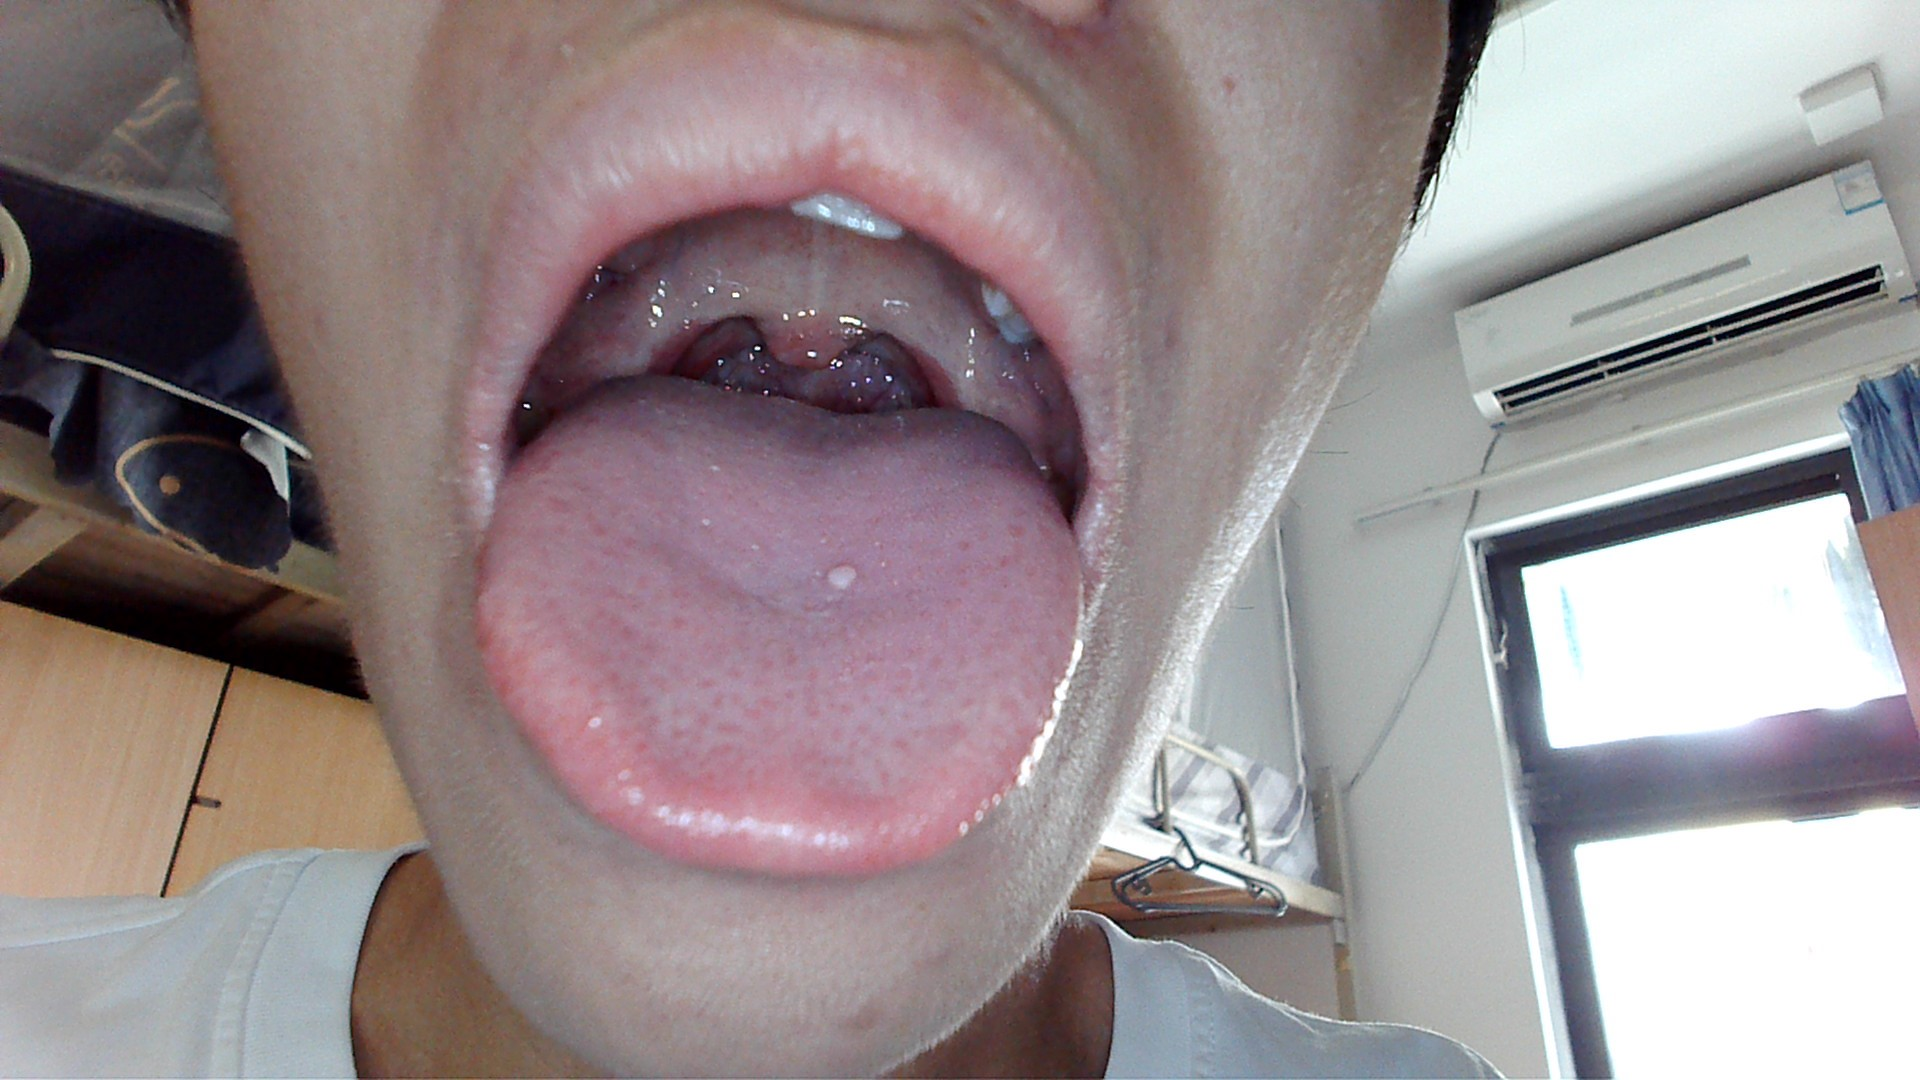throat: (626, 291, 738, 380), (894, 320, 978, 404)
